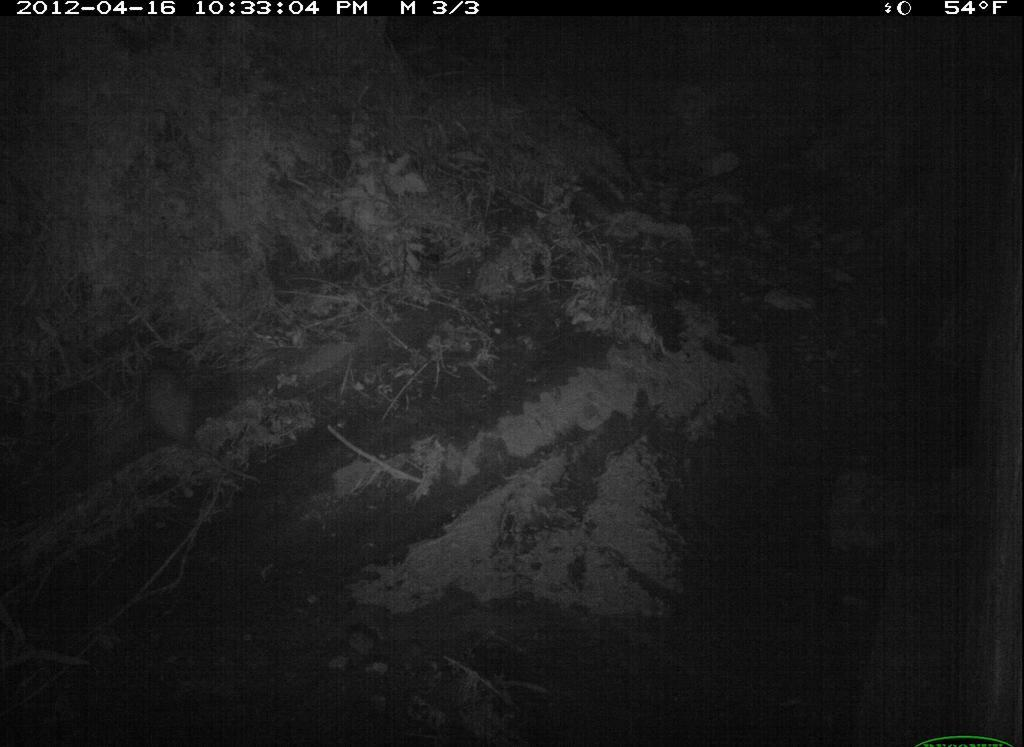opossum: (132, 336, 210, 484)
